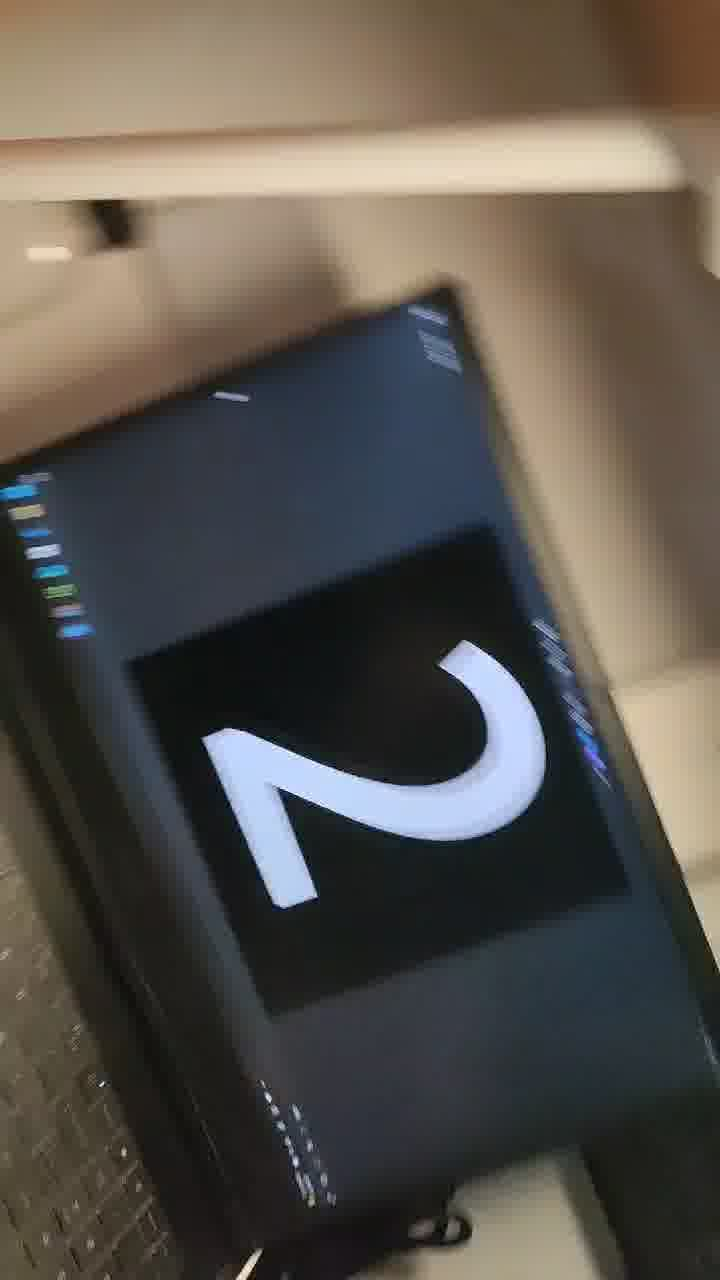two: (212, 547, 565, 959)
